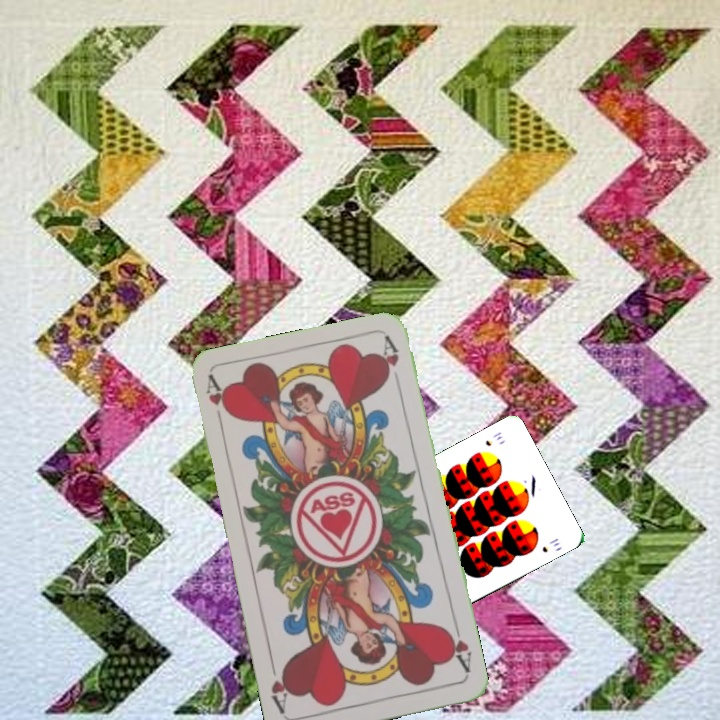HA: (441, 618, 475, 676), (202, 373, 233, 432)
S10: (481, 428, 505, 449)
